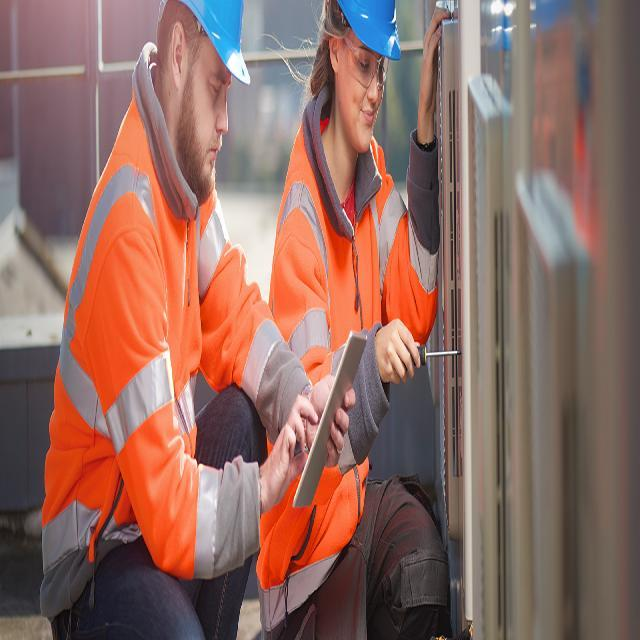reflective_jacket: (44, 125, 291, 639), (263, 118, 435, 600)
safety_helmet: (183, 1, 251, 91), (335, 1, 401, 64)
